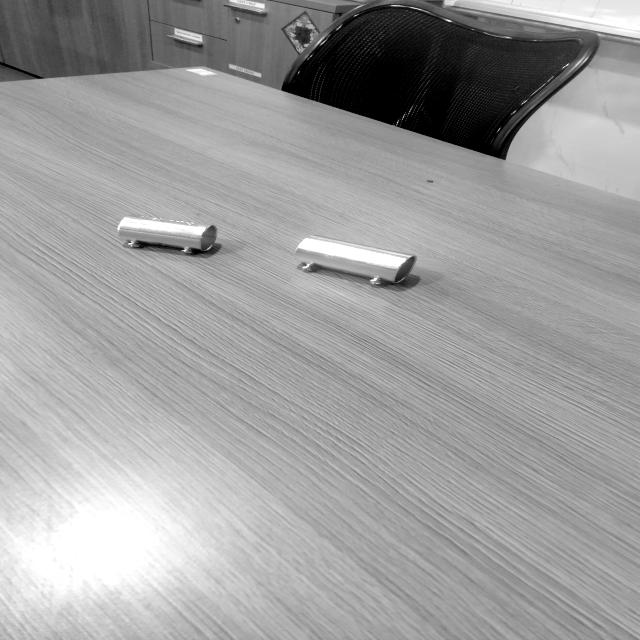Co_Lon: (291, 232, 417, 293)
Co_Nho: (115, 214, 218, 258)
